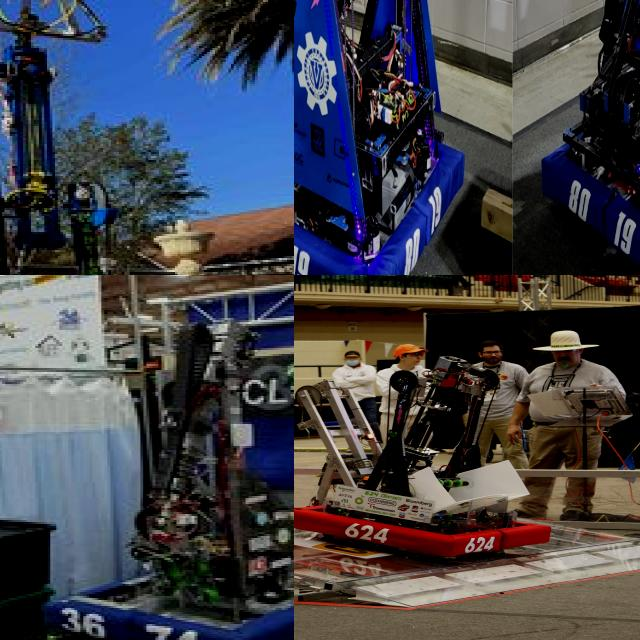FRC-Robots: (28, 283, 294, 640), (0, 0, 294, 275), (294, 0, 504, 275), (294, 354, 559, 563), (536, 0, 640, 275)
